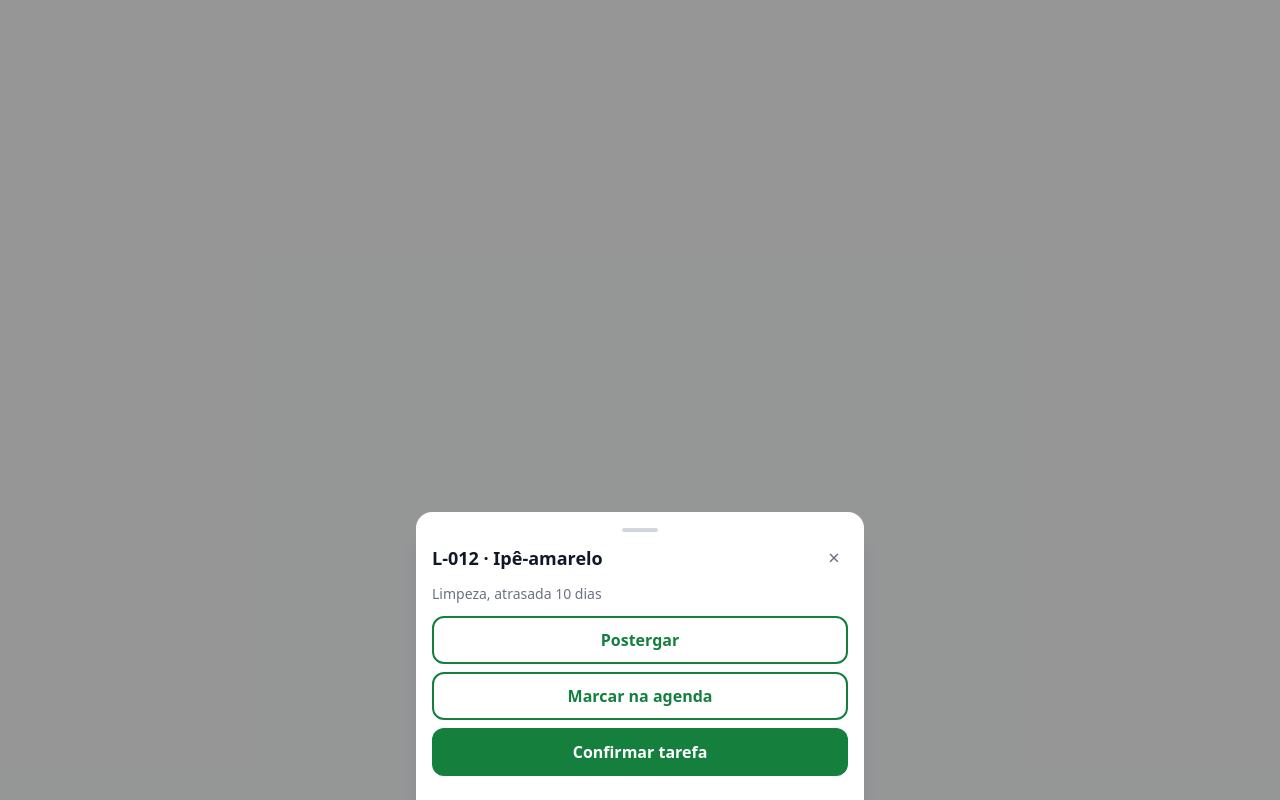
PainelProvidencia (RF-55) › postergar escolhe os dias por toque, e o novo prazo conta do atual
Click the button "Postergar" at (640,640), box x1=432 y1=616 x2=848 y2=664
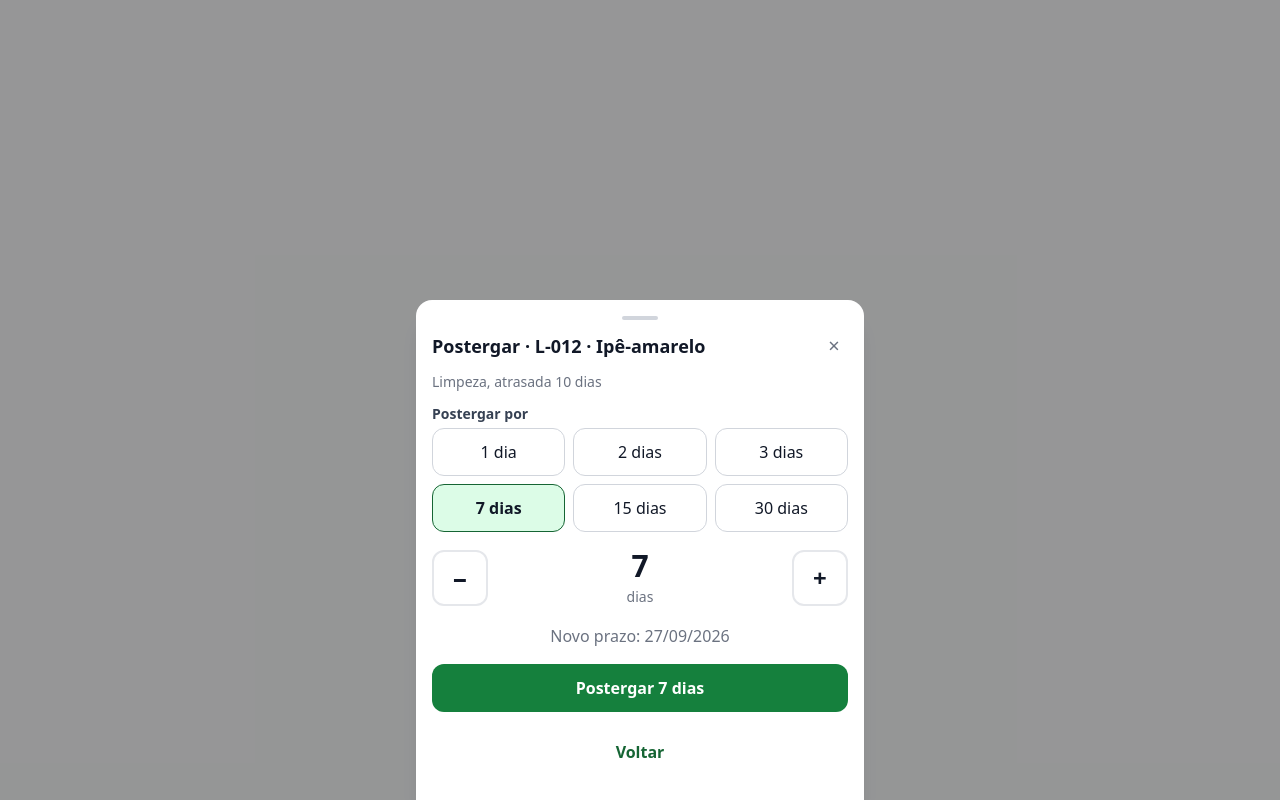
Expected: the text "Novo prazo: 27/09/2026" is shown, x1=550 y1=625 x2=730 y2=647
Click the button "15 dias" at (640,508), box x1=573 y1=484 x2=707 y2=532
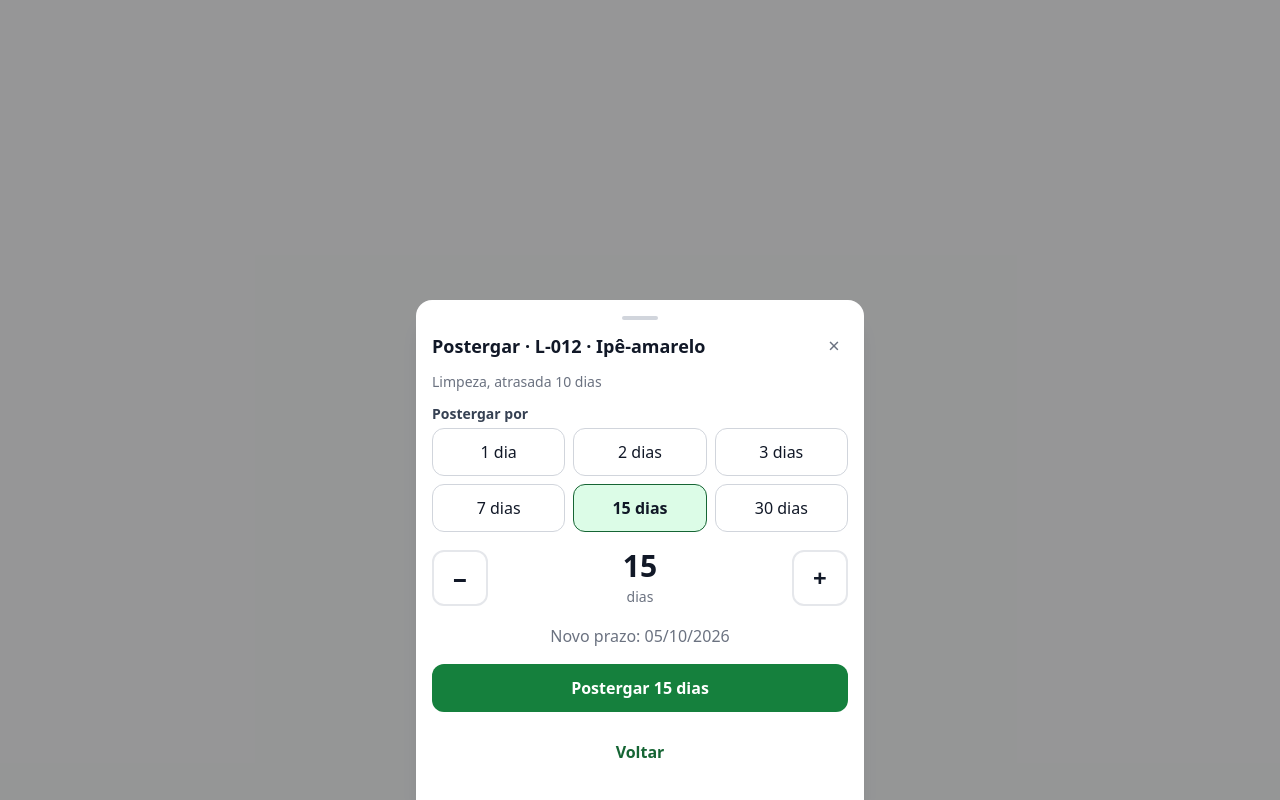
Expected: the text "Novo prazo: 05/10/2026" is shown, x1=550 y1=625 x2=730 y2=647
Click the button named "Um dia a mais" at (820,578), box x1=792 y1=550 x2=848 y2=606
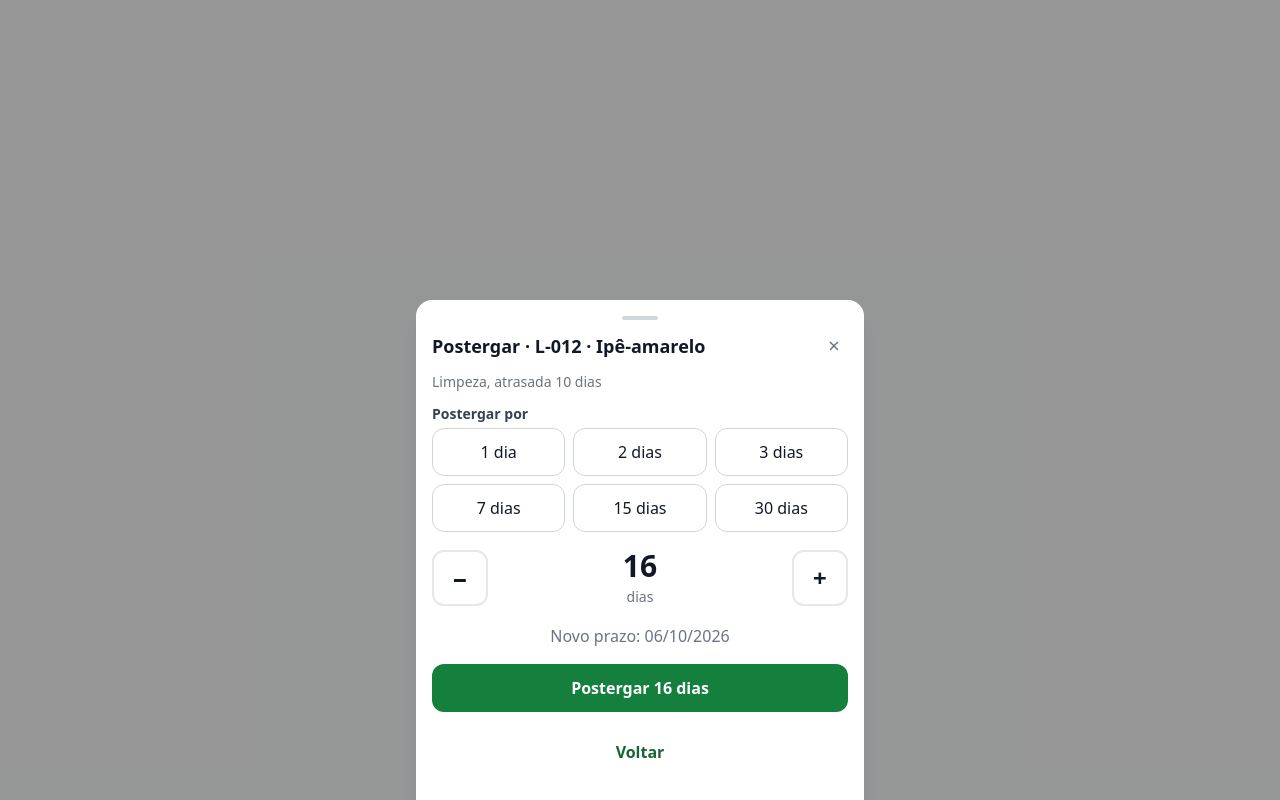
Expected: the button "Postergar 16 dias" is shown, x1=432 y1=664 x2=848 y2=712
Click the button "1 dia" at (499,452), box x1=432 y1=428 x2=565 y2=476
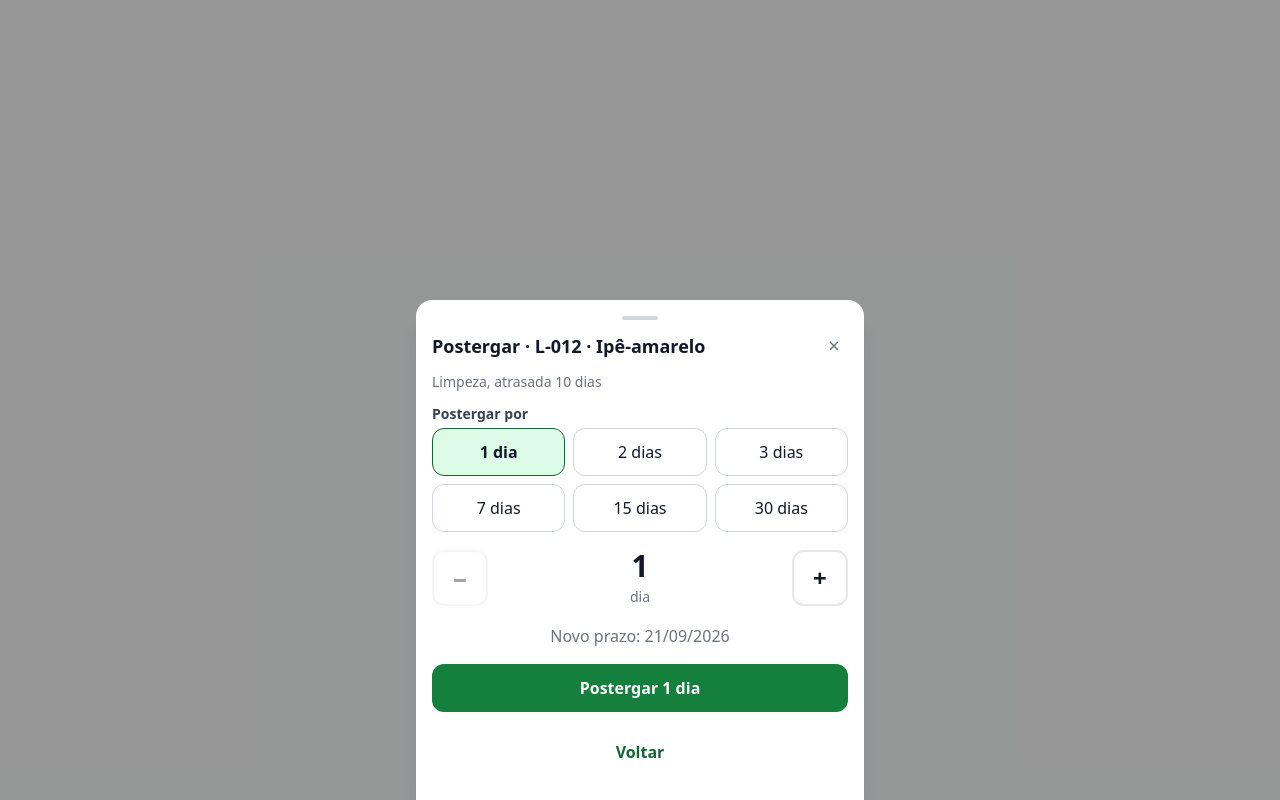
Expected: the button named "Um dia a menos" is disabled, x1=432 y1=550 x2=488 y2=606
Click the button "Voltar" at (640,752), box x1=432 y1=728 x2=848 y2=776
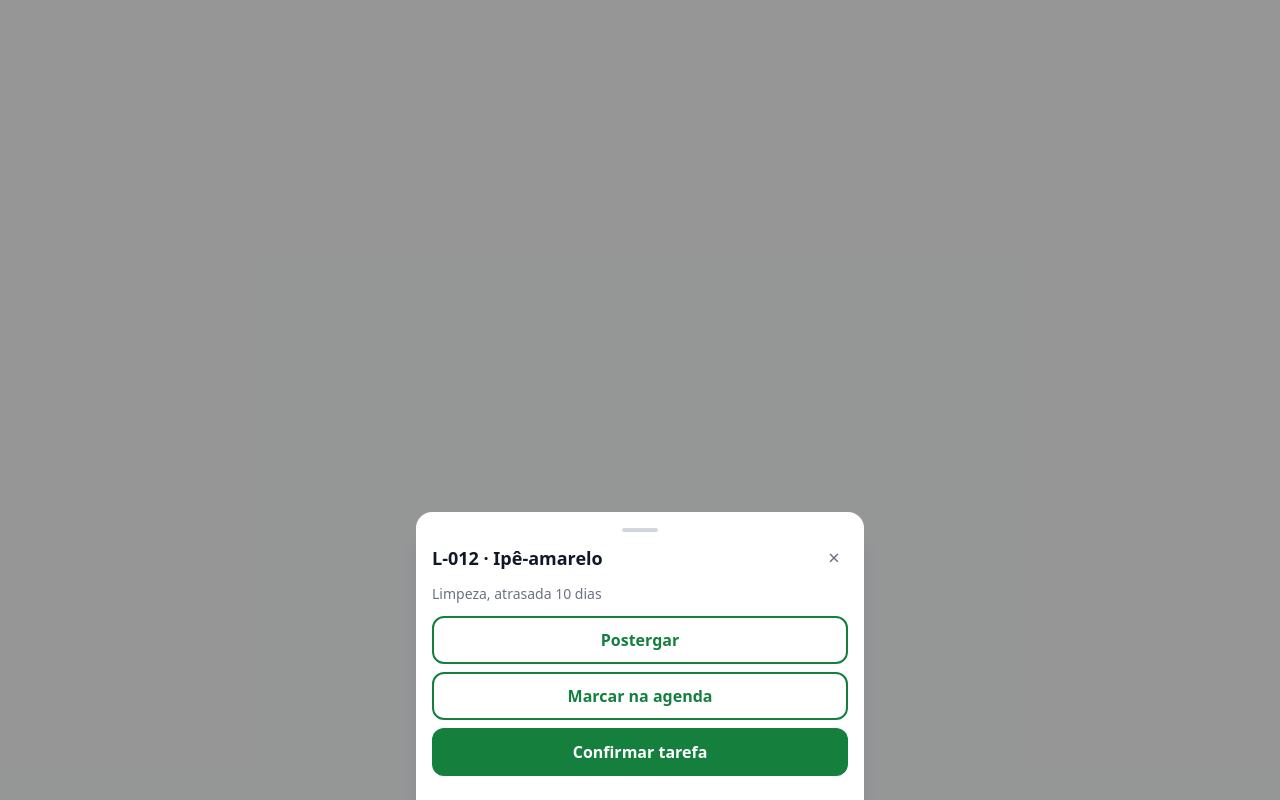
Expected: the link "Confirmar tarefa" is shown, x1=432 y1=728 x2=848 y2=776
